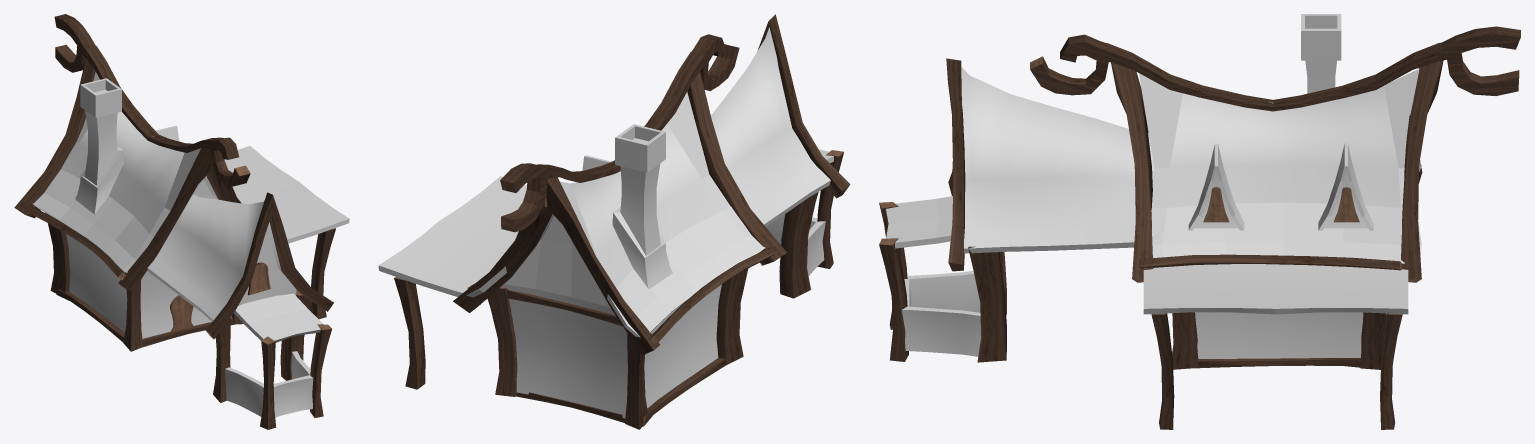
File: Market2.fbx
3 views of the same model, side by side, from view 1: azimuth 30°, elevation 25°; view 2: azimuth 150°, elevation 25°; view 3: azimuth 270°, elevation 25° (orthographic). The views are drawn at different scales.
Visible parts, largest first — view 1: Box1350, Object1832, Object1649, Box1474, Object1827, Object1657, Object1650, Object1646, Object1648, Object1653, Box1349, Object1662 (+17 smaller); view 2: Object1649, Box1350, Object1832, Box1474, Object1653, Object1646, Object1648, Object1650, Object1661, Box1349, Object1647, Object1662 (+12 smaller); view 3: Box1350, Object1832, Object1649, Object1650, Object1653, Object1827, Box1349, Object1635, Object1647, Object1663, Object1658, Object1657 (+14 smaller).
Part boxes in pixels (left/top/right/bottom): Box1350: left=32, top=72, right=217, bottom=272; Object1832: left=147, top=194, right=288, bottom=321; Object1649: left=66, top=179, right=231, bottom=338; Box1474: left=75, top=78, right=124, bottom=214; Object1827: left=225, top=351, right=313, bottom=417; Object1657: left=234, top=293, right=323, bottom=342; Object1650: left=241, top=182, right=349, bottom=243; Object1646: left=118, top=148, right=211, bottom=291; Object1648: left=14, top=58, right=95, bottom=218; Object1653: left=224, top=146, right=299, bottom=201; Box1349: left=85, top=46, right=221, bottom=152; Object1662: left=206, top=192, right=272, bottom=339; Object1649: left=501, top=216, right=721, bottom=418; Box1350: left=466, top=92, right=765, bottom=337; Object1832: left=711, top=27, right=830, bottom=226; Box1474: left=612, top=124, right=672, bottom=288; Object1653: left=378, top=220, right=510, bottom=301; Object1646: left=687, top=71, right=787, bottom=265; Object1648: left=546, top=177, right=660, bottom=355; Object1650: left=440, top=176, right=526, bottom=244; Object1661: left=779, top=192, right=818, bottom=298; Box1349: left=537, top=52, right=704, bottom=182; Object1647: left=453, top=196, right=552, bottom=312; Object1662: left=769, top=14, right=850, bottom=198; Box1350: left=1139, top=68, right=1421, bottom=263; Object1832: left=961, top=67, right=1154, bottom=253; Object1649: left=1195, top=312, right=1363, bottom=358; Object1650: left=1143, top=264, right=1276, bottom=314; Object1653: left=1275, top=264, right=1408, bottom=314; Object1827: left=902, top=270, right=981, bottom=356; Box1349: left=1106, top=43, right=1439, bottom=111; Object1635: left=1111, top=62, right=1153, bottom=282; Object1647: left=1401, top=60, right=1443, bottom=282; Object1663: left=1436, top=26, right=1520, bottom=95; Object1658: left=968, top=246, right=1006, bottom=362; Object1657: left=886, top=196, right=952, bottom=248.
Size of the model in its own units: 647 by 635 by 1175.
